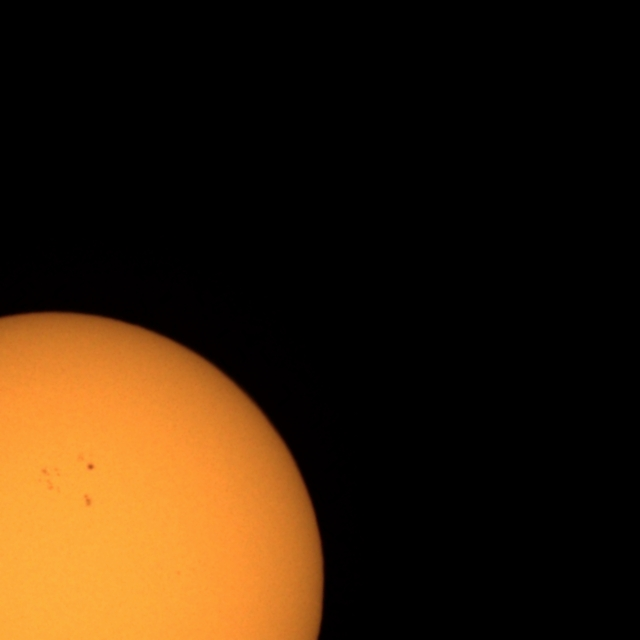sunspot: (39, 466, 62, 492), (82, 493, 93, 509), (86, 462, 96, 472)
